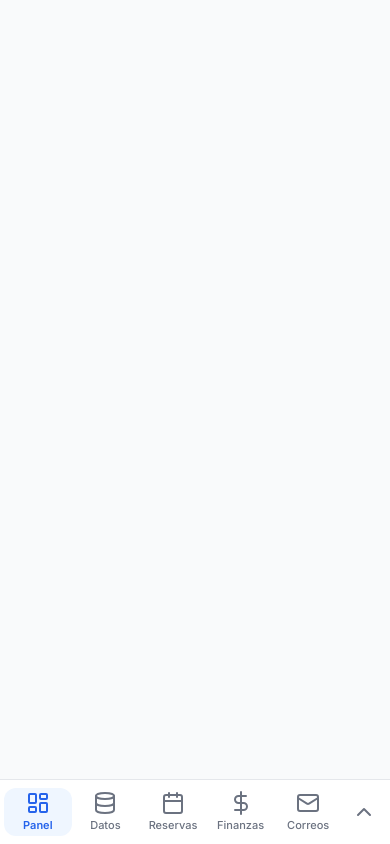
Scenario: BottomNav › selects a secondary tab from the sheet and collapses it
Click the button named "Ver más opciones". click: click(364, 812)
box: [342,788,386,836]
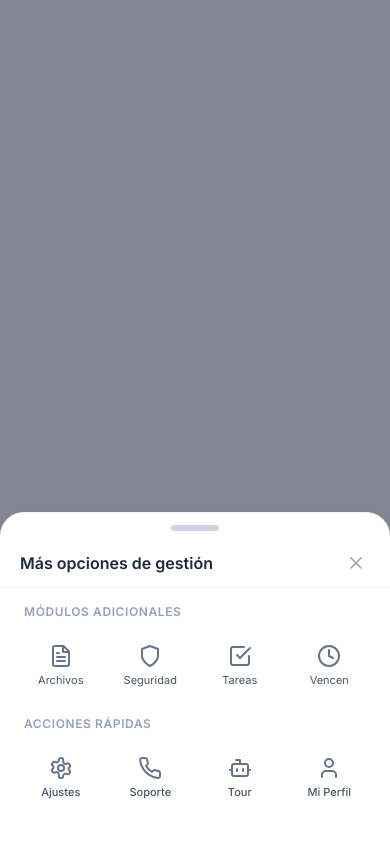
Click the button "Vencen". click: click(329, 666)
box: [288,632,370,700]
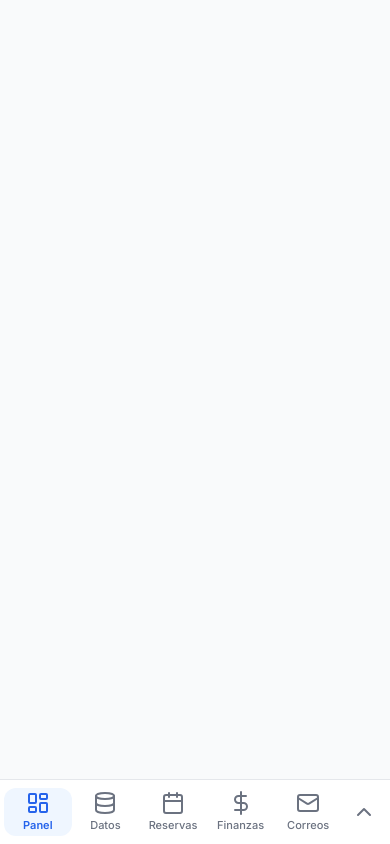
Expected: the button "Mi Perfil" is gone
